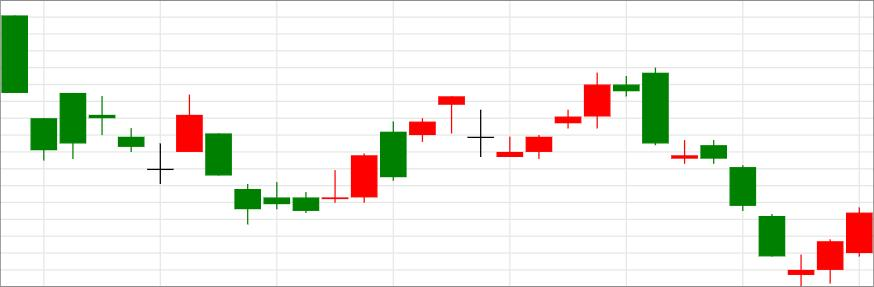morning_star_rise: (642, 68, 844, 286)
